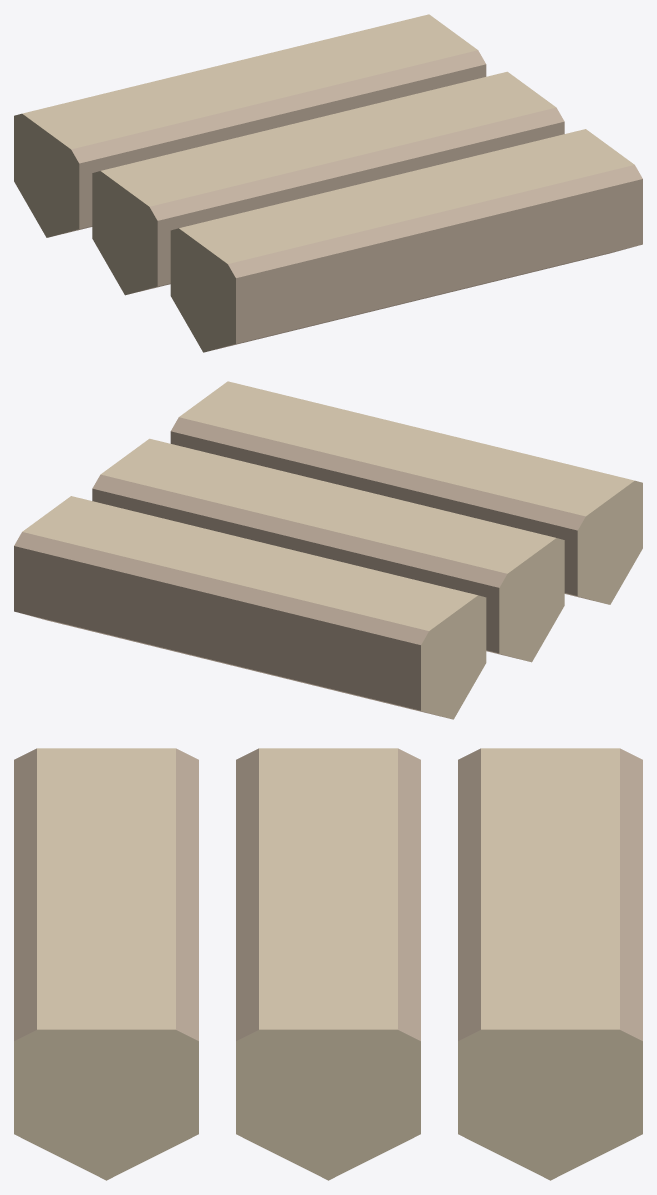
The model's file is Prop_Bridge_Log_Middle.glb.
3 views of the same model, one above another, from view 1: azimuth 30°, elevation 25°; view 2: azimuth 150°, elevation 25°; view 3: azimuth 270°, elevation 25° (orthographic). The views are drawn at different scales.
Parts seen in each view (by area): view 1: object2, object1, object3; view 2: object3, object1, object2; view 3: object1, object2, object3.
Part boxes in pixels (left/top/right/bottom): object2: left=170, top=129, right=642, bottom=352; object1: left=92, top=71, right=564, bottom=295; object3: left=14, top=14, right=486, bottom=237; object3: left=14, top=496, right=486, bottom=719; object1: left=92, top=438, right=564, bottom=662; object2: left=170, top=381, right=642, bottom=604; object1: left=236, top=748, right=420, bottom=1180; object2: left=14, top=748, right=198, bottom=1180; object3: left=458, top=748, right=642, bottom=1180.
Size of the model in its own units: 1 by 0.25 by 0.9444.
